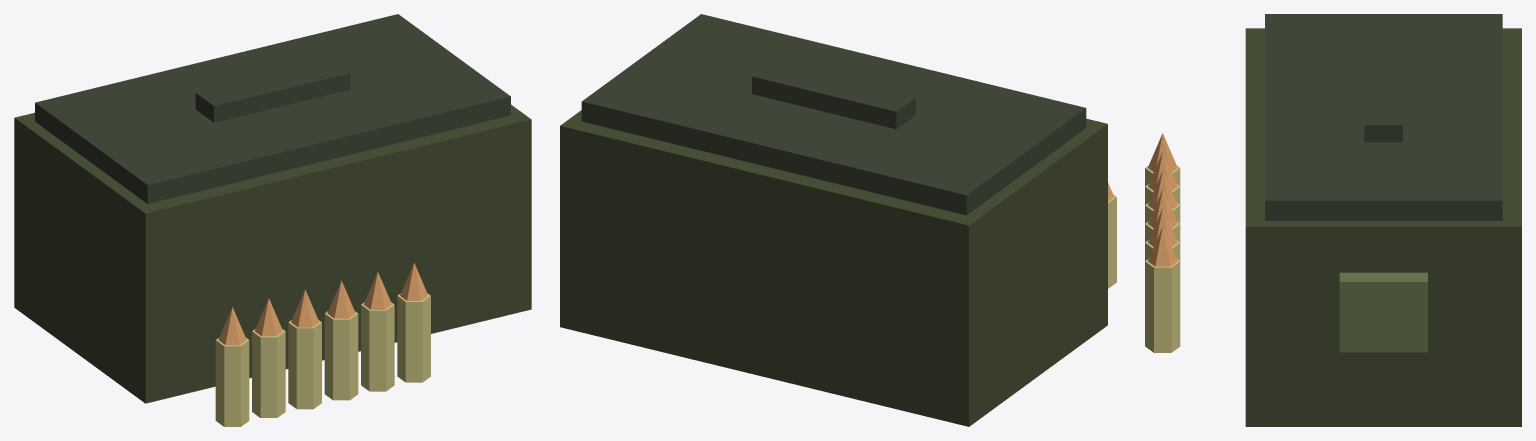
File: ce_ammo_highcal_fmj_c.obj
The picture shows the model from 3 angles, left to right: view 1: azimuth 30°, elevation 25°; view 2: azimuth 150°, elevation 25°; view 3: azimuth 270°, elevation 25°; orthographic projection. The views are drawn at different scales.
Parts seen in each view (by area): view 1: ce_ammo_highcal_fmj_c_0, ce_ammo_highcal_fmj_c_1, ce_ammo_highcal_fmj_c_2, ce_ammo_highcal_fmj_c_10, ce_ammo_highcal_fmj_c_4, ce_ammo_highcal_fmj_c_8, ce_ammo_highcal_fmj_c_12, ce_ammo_highcal_fmj_c_14, ce_ammo_highcal_fmj_c_6, ce_ammo_highcal_fmj_c_5, ce_ammo_highcal_fmj_c_7, ce_ammo_highcal_fmj_c_9 (+3 smaller); view 2: ce_ammo_highcal_fmj_c_0, ce_ammo_highcal_fmj_c_1, ce_ammo_highcal_fmj_c_2, ce_ammo_highcal_fmj_c_4; view 3: ce_ammo_highcal_fmj_c_0, ce_ammo_highcal_fmj_c_1, ce_ammo_highcal_fmj_c_3, ce_ammo_highcal_fmj_c_2, ce_ammo_highcal_fmj_c_14, ce_ammo_highcal_fmj_c_15, ce_ammo_highcal_fmj_c_9, ce_ammo_highcal_fmj_c_11, ce_ammo_highcal_fmj_c_5, ce_ammo_highcal_fmj_c_7, ce_ammo_highcal_fmj_c_13.
Boxes of the visible parts, left/top/right/bottom form: ce_ammo_highcal_fmj_c_0: left=14, top=104, right=531, bottom=403; ce_ammo_highcal_fmj_c_1: left=35, top=14, right=510, bottom=203; ce_ammo_highcal_fmj_c_2: left=195, top=59, right=350, bottom=122; ce_ammo_highcal_fmj_c_10: left=324, top=311, right=358, bottom=400; ce_ammo_highcal_fmj_c_4: left=215, top=338, right=249, bottom=426; ce_ammo_highcal_fmj_c_8: left=288, top=320, right=321, bottom=409; ce_ammo_highcal_fmj_c_12: left=361, top=302, right=394, bottom=391; ce_ammo_highcal_fmj_c_14: left=397, top=293, right=430, bottom=382; ce_ammo_highcal_fmj_c_6: left=252, top=329, right=285, bottom=417; ce_ammo_highcal_fmj_c_5: left=218, top=307, right=246, bottom=345; ce_ammo_highcal_fmj_c_7: left=255, top=298, right=282, bottom=336; ce_ammo_highcal_fmj_c_9: left=291, top=289, right=319, bottom=327; ce_ammo_highcal_fmj_c_0: left=560, top=110, right=1107, bottom=426; ce_ammo_highcal_fmj_c_1: left=581, top=14, right=1086, bottom=215; ce_ammo_highcal_fmj_c_2: left=752, top=62, right=915, bottom=129; ce_ammo_highcal_fmj_c_4: left=1108, top=194, right=1116, bottom=288; ce_ammo_highcal_fmj_c_0: left=1245, top=28, right=1521, bottom=426; ce_ammo_highcal_fmj_c_1: left=1265, top=14, right=1502, bottom=220; ce_ammo_highcal_fmj_c_3: left=1339, top=272, right=1427, bottom=352; ce_ammo_highcal_fmj_c_2: left=1364, top=55, right=1402, bottom=142; ce_ammo_highcal_fmj_c_14: left=1145, top=259, right=1180, bottom=352; ce_ammo_highcal_fmj_c_15: left=1148, top=226, right=1177, bottom=266; ce_ammo_highcal_fmj_c_9: left=1148, top=170, right=1177, bottom=209; ce_ammo_highcal_fmj_c_11: left=1148, top=189, right=1177, bottom=228; ce_ammo_highcal_fmj_c_5: left=1148, top=133, right=1177, bottom=171; ce_ammo_highcal_fmj_c_7: left=1148, top=152, right=1177, bottom=190; ce_ammo_highcal_fmj_c_13: left=1148, top=208, right=1177, bottom=246.
Size of the model in its own units: 0.89 by 0.475 by 0.682.
